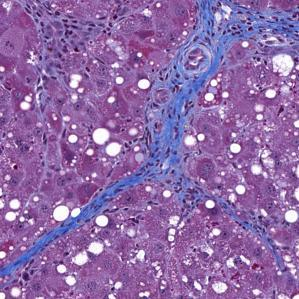fibrosis: (149, 66, 204, 179), (199, 3, 297, 58)
